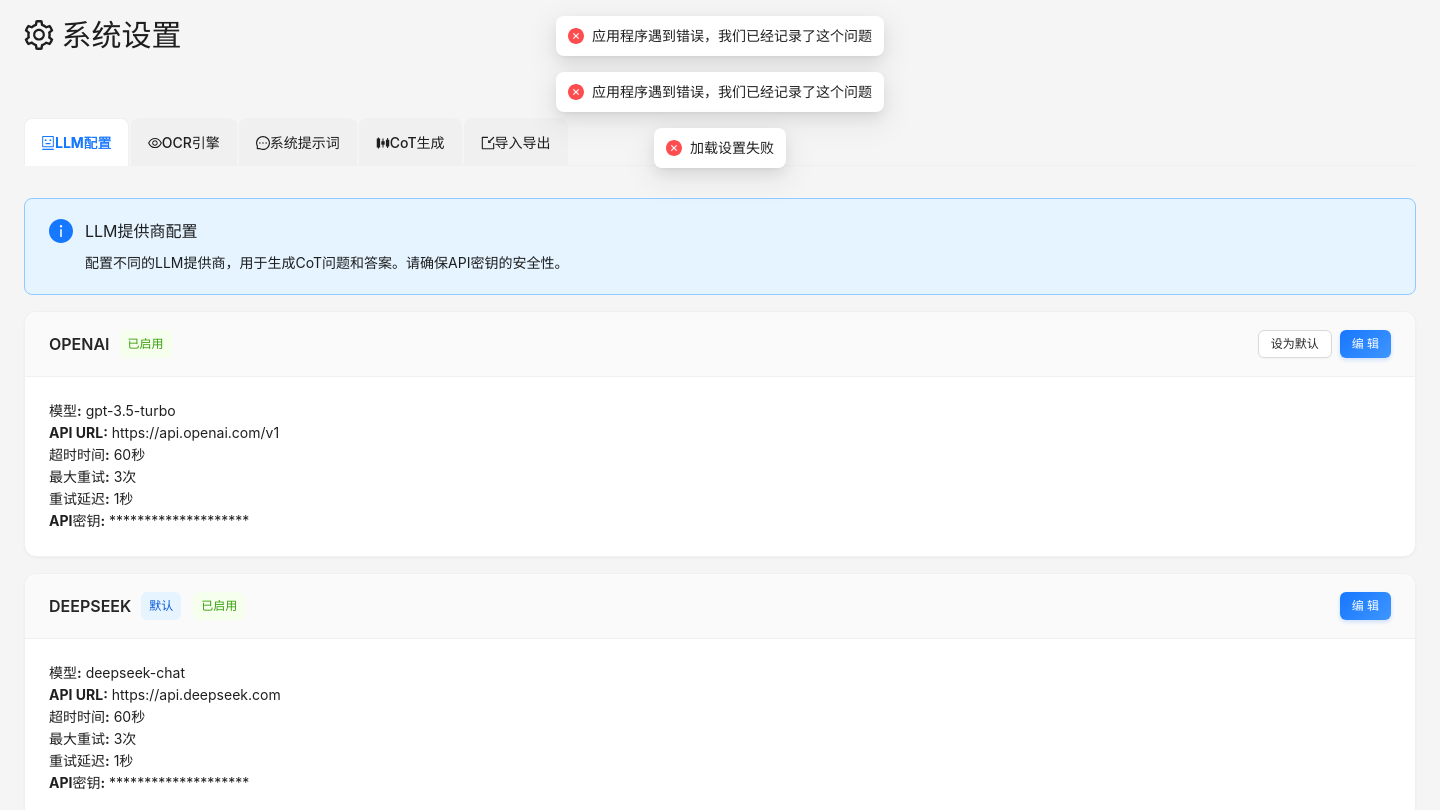
it: Settings Page › switches between tabs
# Click on OCR engine tab
Click the tab "OCR引擎".
click(184, 142)  # box [148,130,220,154]
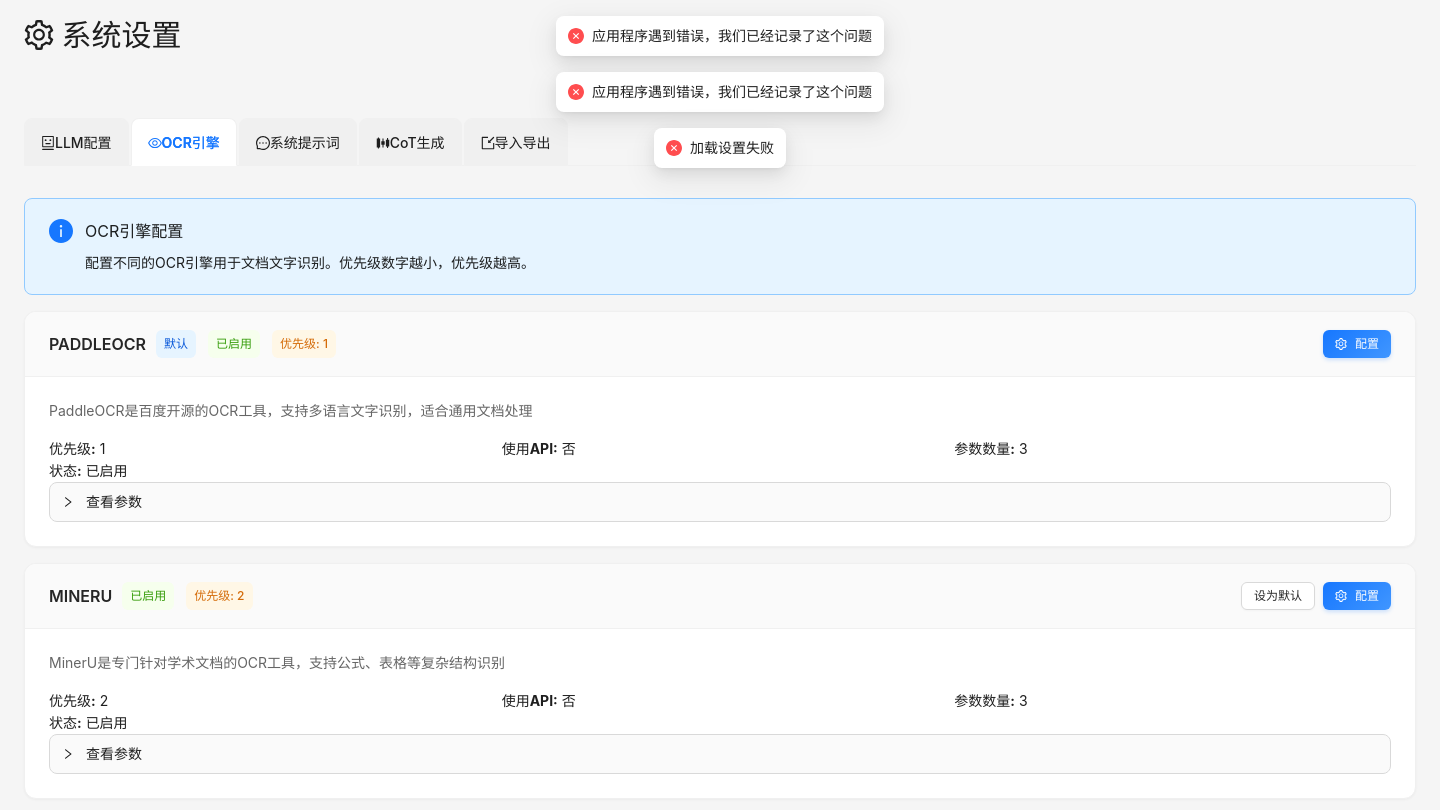
Expected: the text "OCR引擎配置" is shown, [85,221,183,241]
# Click on system prompts tab
Click the tab "系统提示词".
click(298, 142)  # box [256,130,340,154]
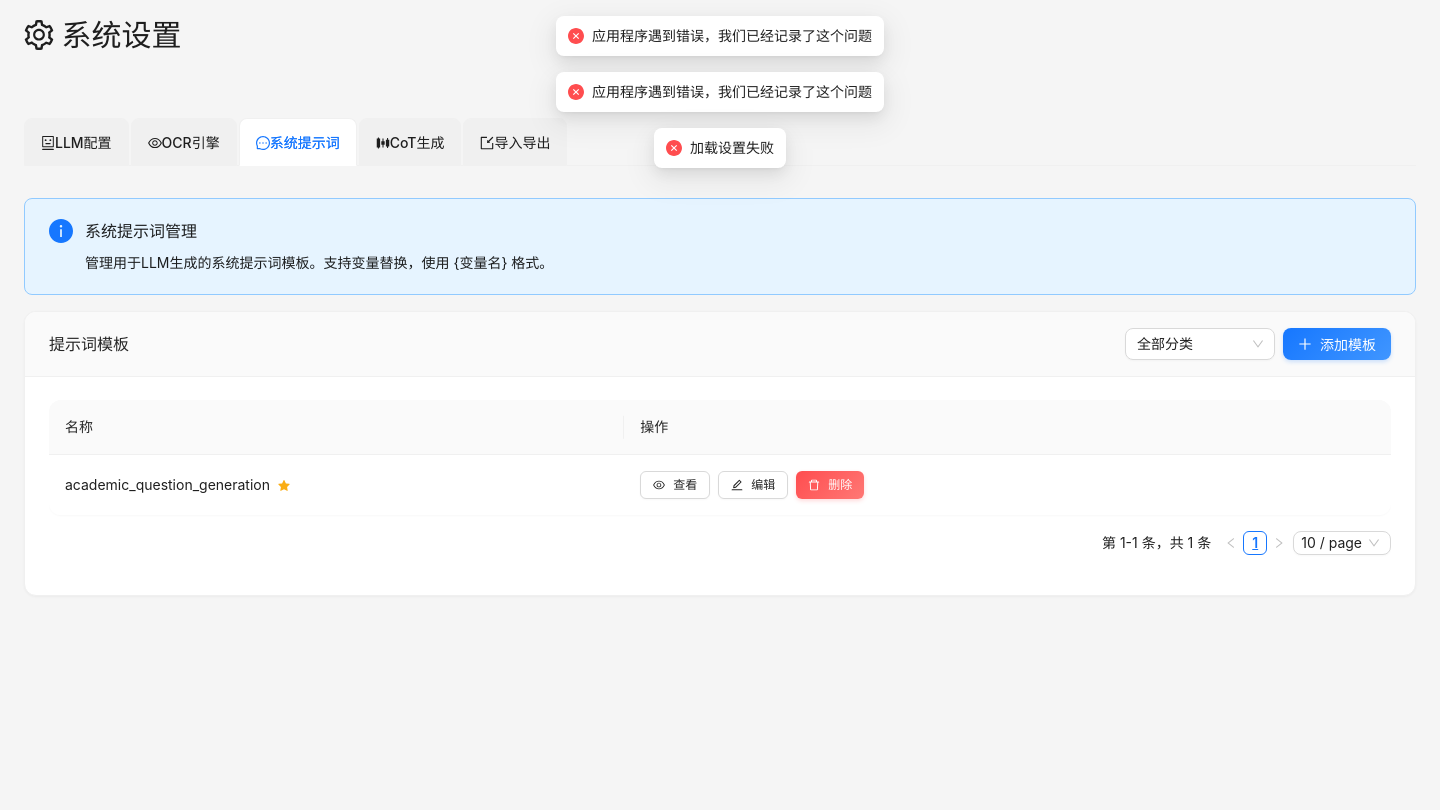
Expected: the text "系统提示词管理" is shown, [85,221,197,241]
# Click on CoT generation tab
Click the tab "CoT生成".
click(410, 142)  # box [376,130,444,154]
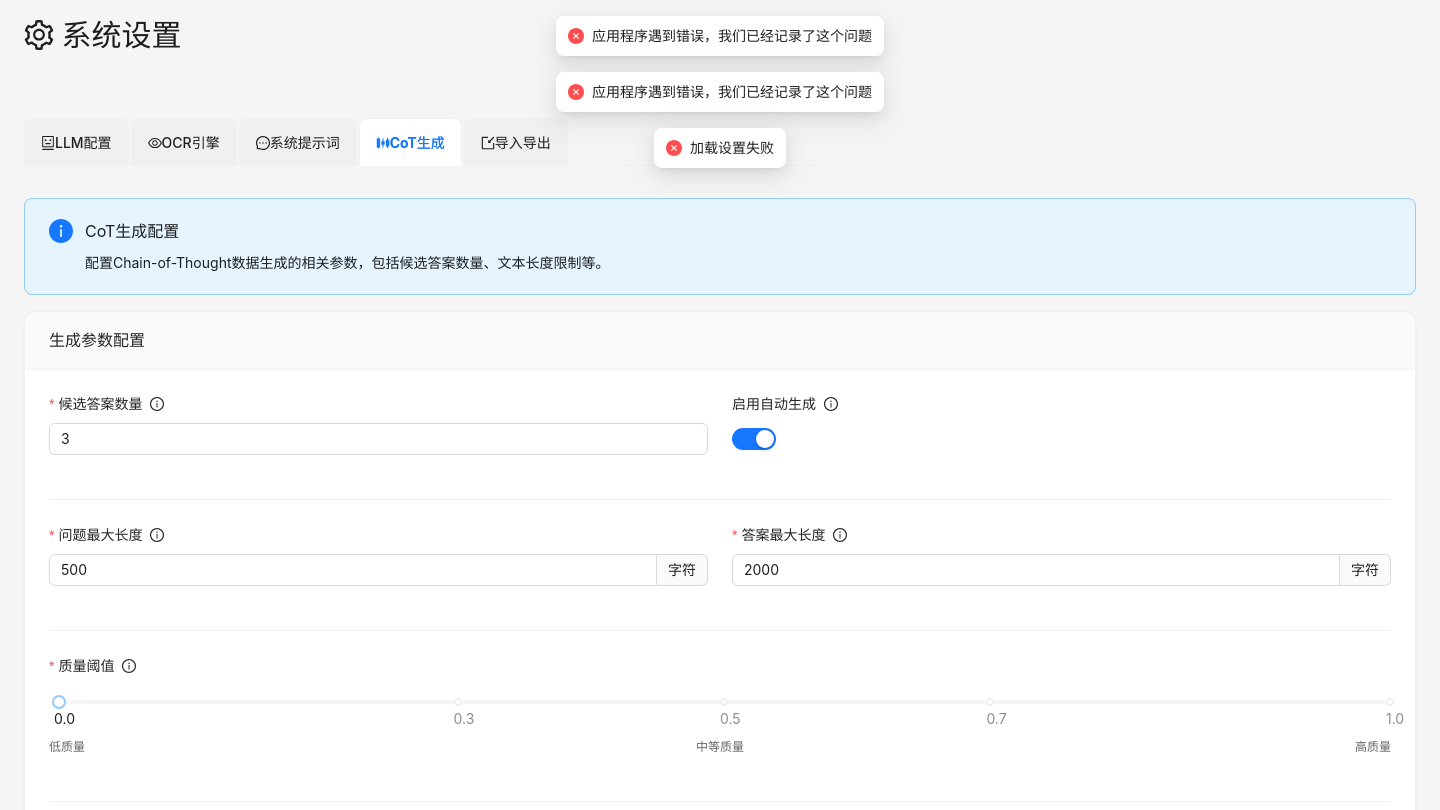
Expected: the text "CoT生成配置" is shown, [85,221,179,241]
